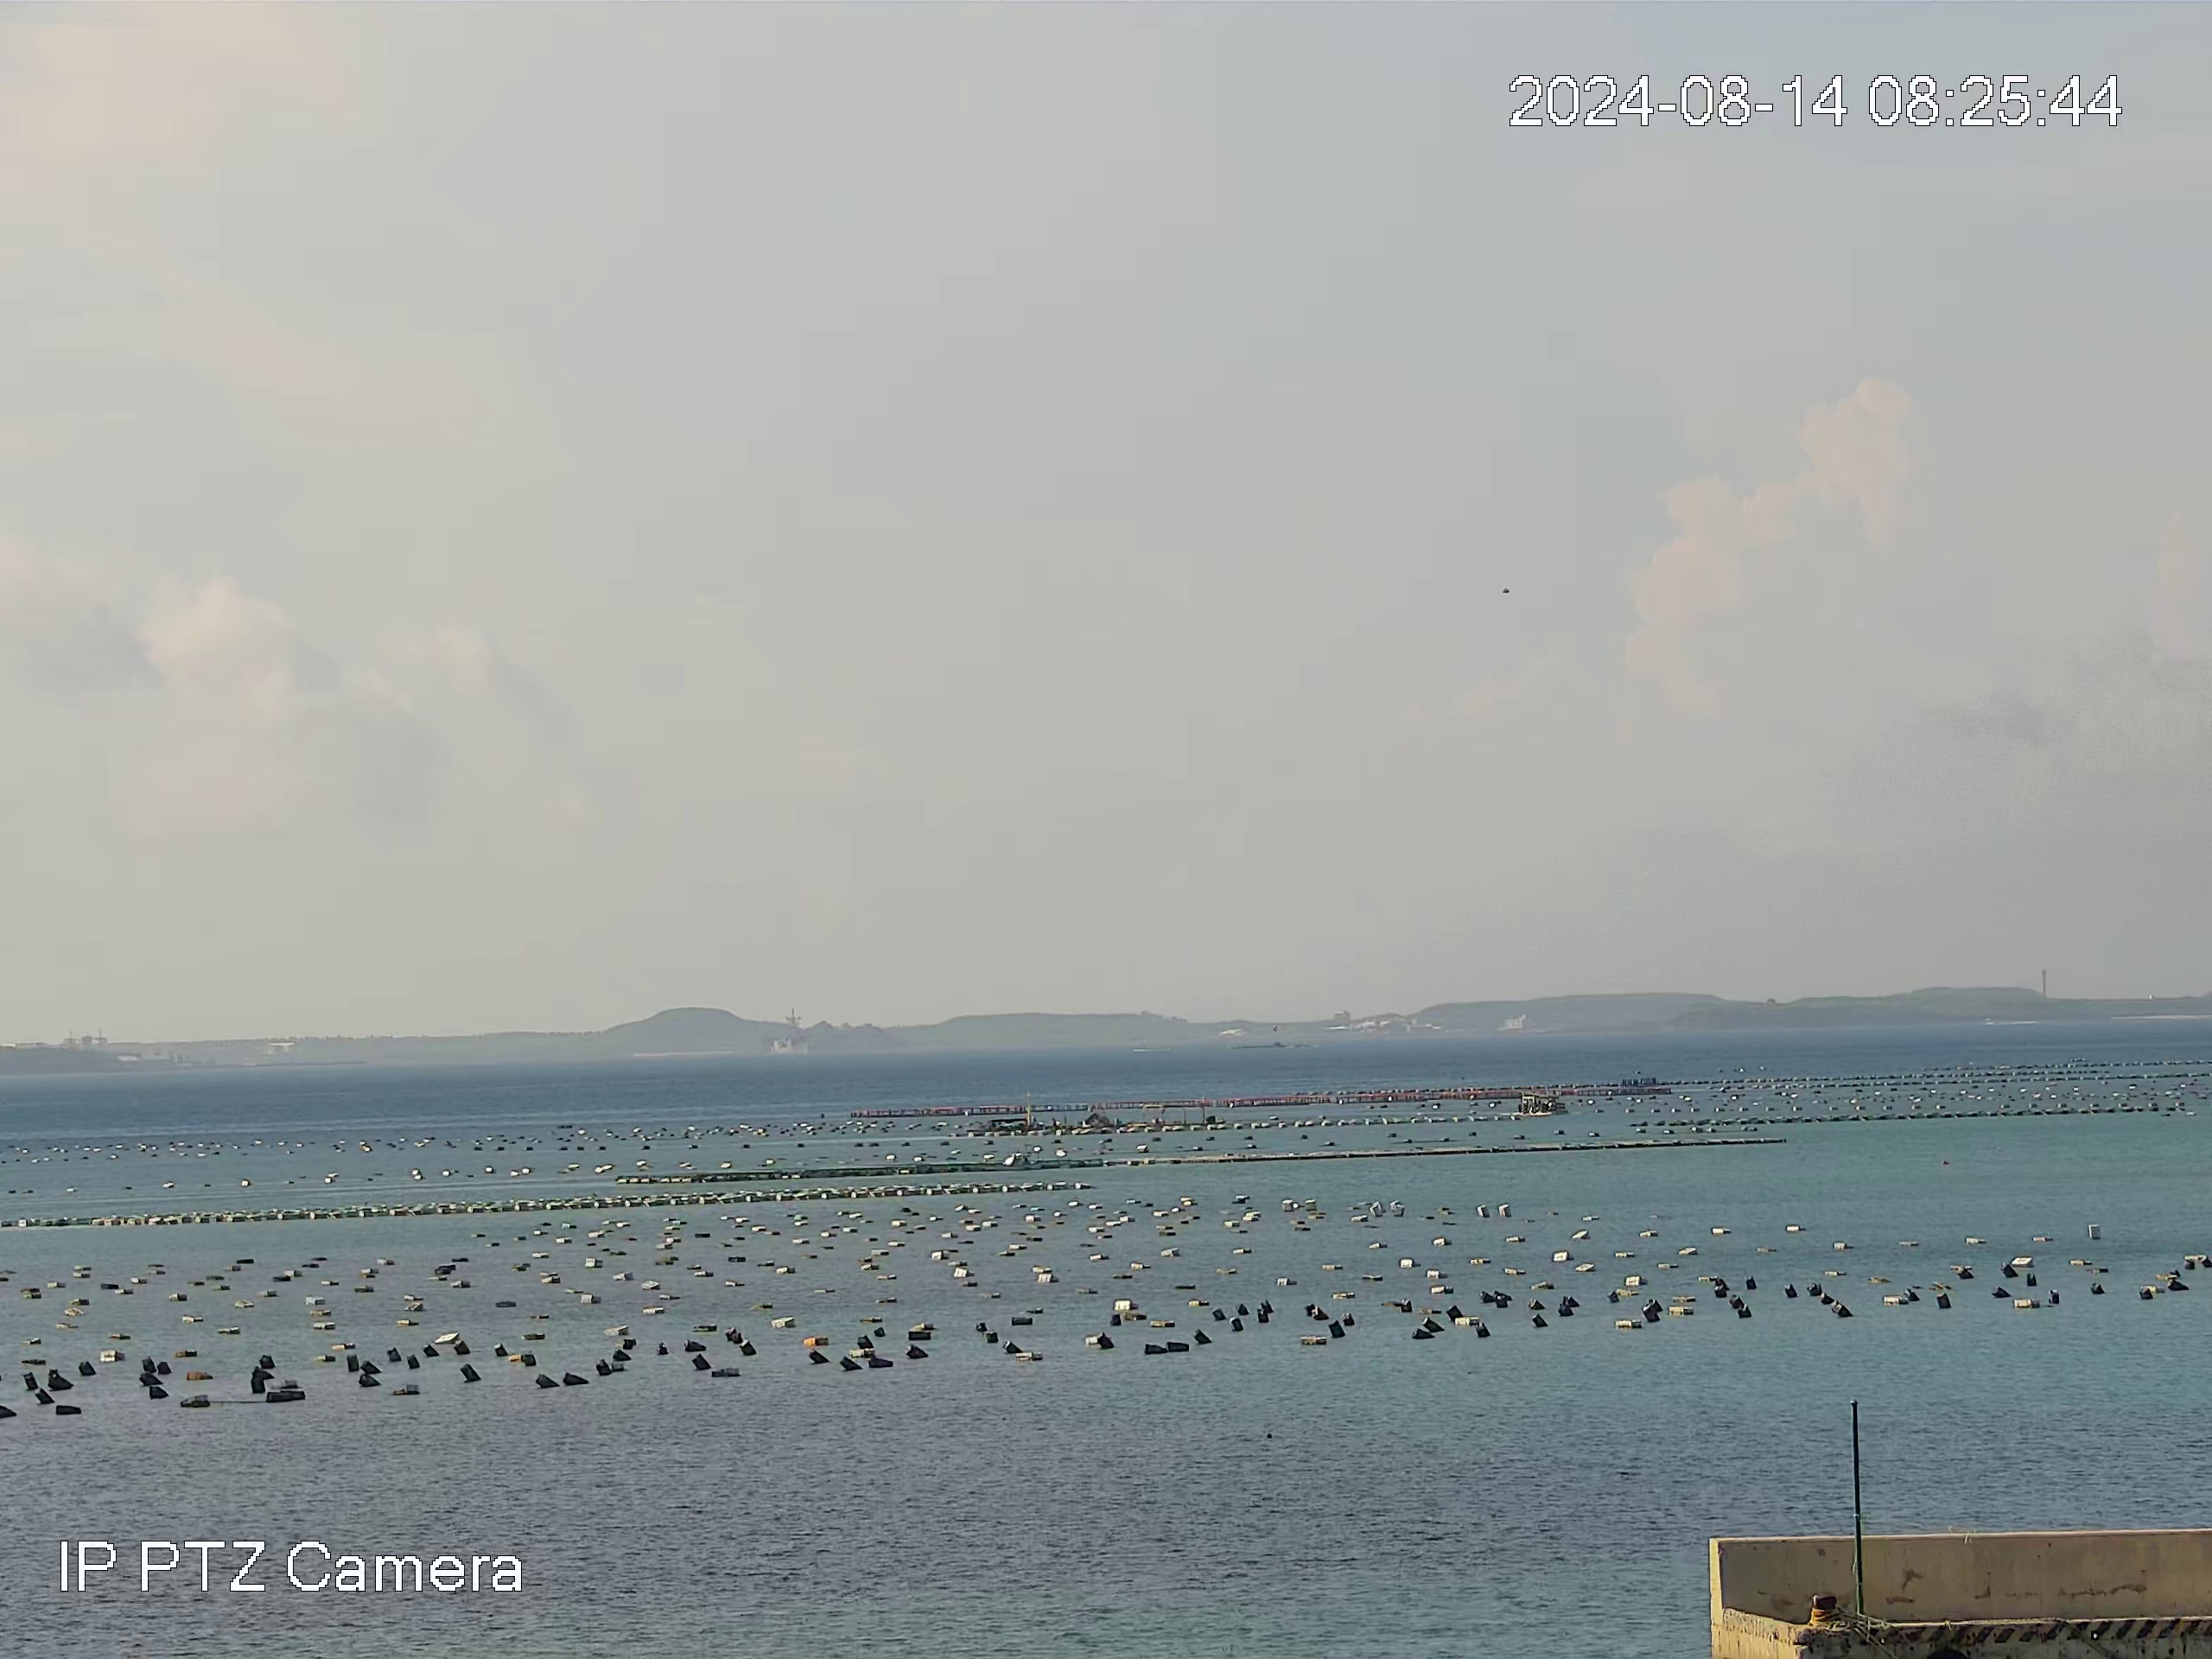boat: (1518, 1093, 1567, 1116)
